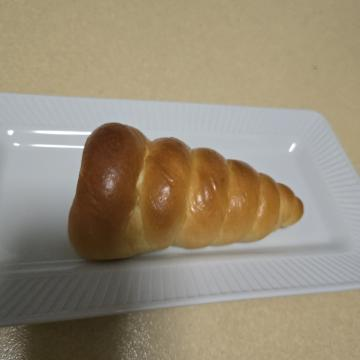cream horn: (108, 47, 282, 300)
